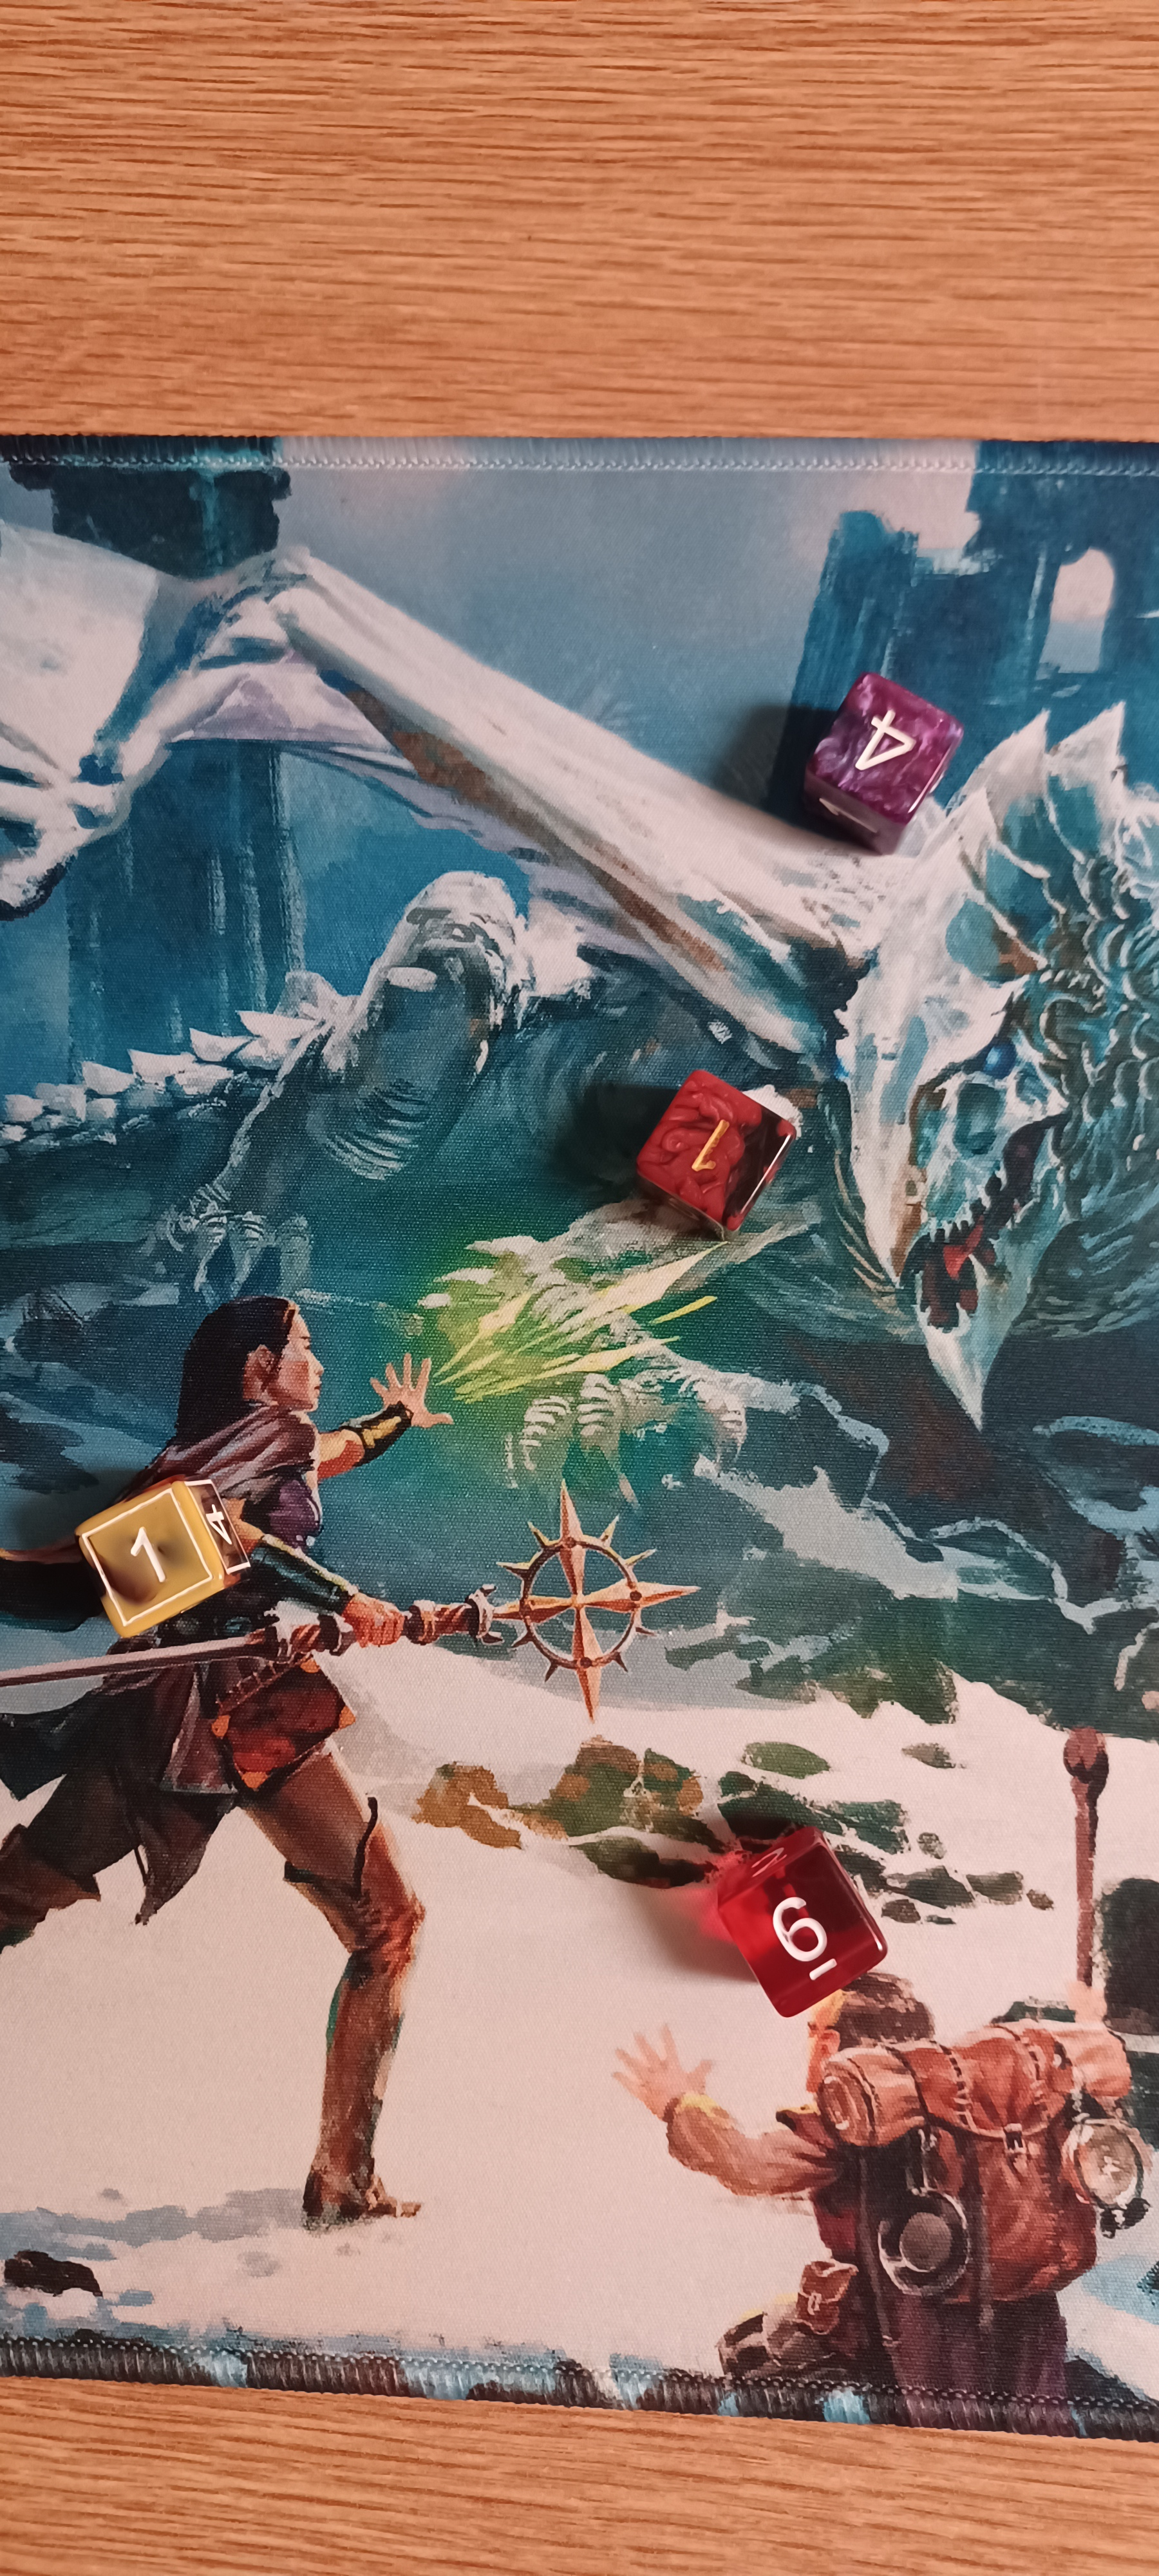four: (762, 646, 1011, 876)
one: (609, 1027, 831, 1262), (54, 1433, 269, 1663)
six: (688, 1814, 936, 2049)
